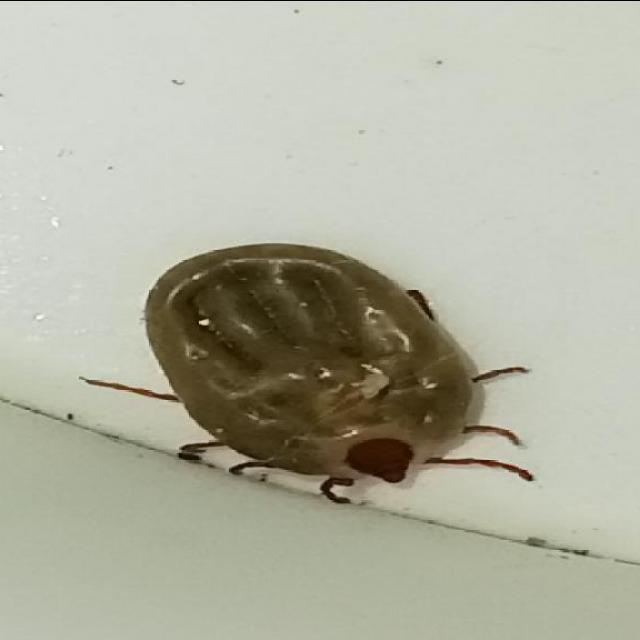Rhipicephalus Sanguineus-F-Fed: (77, 242, 534, 503)
